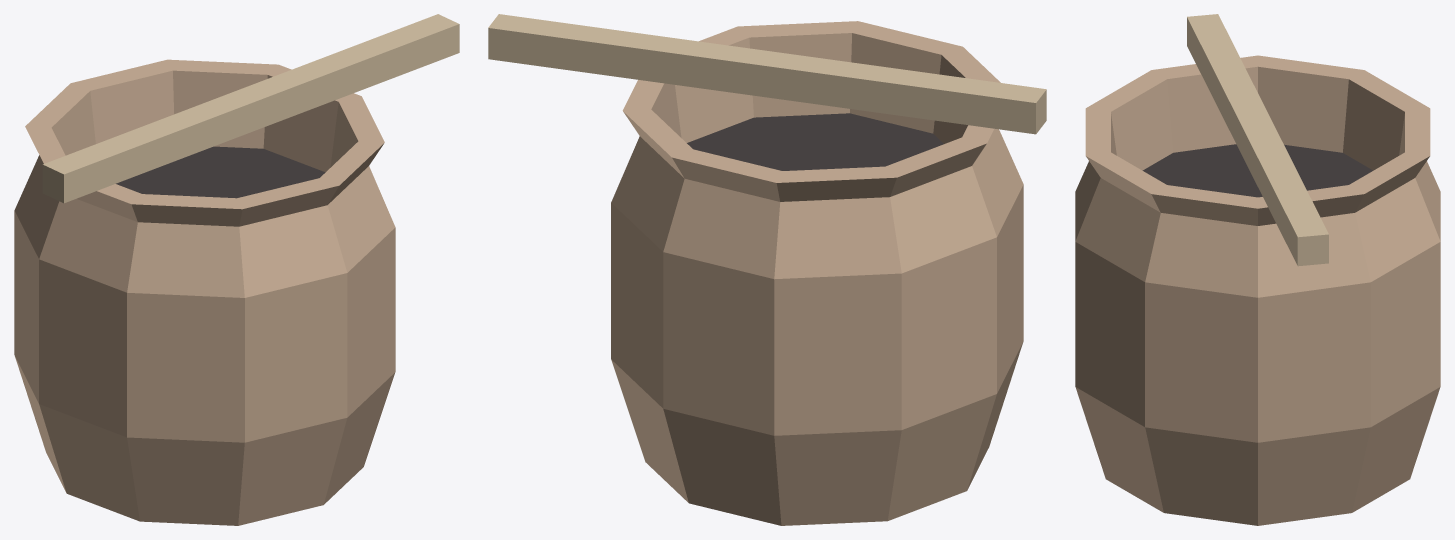
The model's file is prop-ink-gall-pot.fbx.
3 views of the same model, side by side, from view 1: azimuth 30°, elevation 25°; view 2: azimuth 150°, elevation 25°; view 3: azimuth 270°, elevation 25° (orthographic). The views are drawn at different scales.
Visible parts, largest first — view 1: prop-ink-gall-pot; view 2: prop-ink-gall-pot; view 3: prop-ink-gall-pot.
Part boxes in pixels (left/top/right/bottom): prop-ink-gall-pot: left=14, top=14, right=459, bottom=525; prop-ink-gall-pot: left=488, top=14, right=1046, bottom=525; prop-ink-gall-pot: left=1075, top=14, right=1440, bottom=525.
Size of the model in its own units: 19.81 by 14.7 by 13.7.
